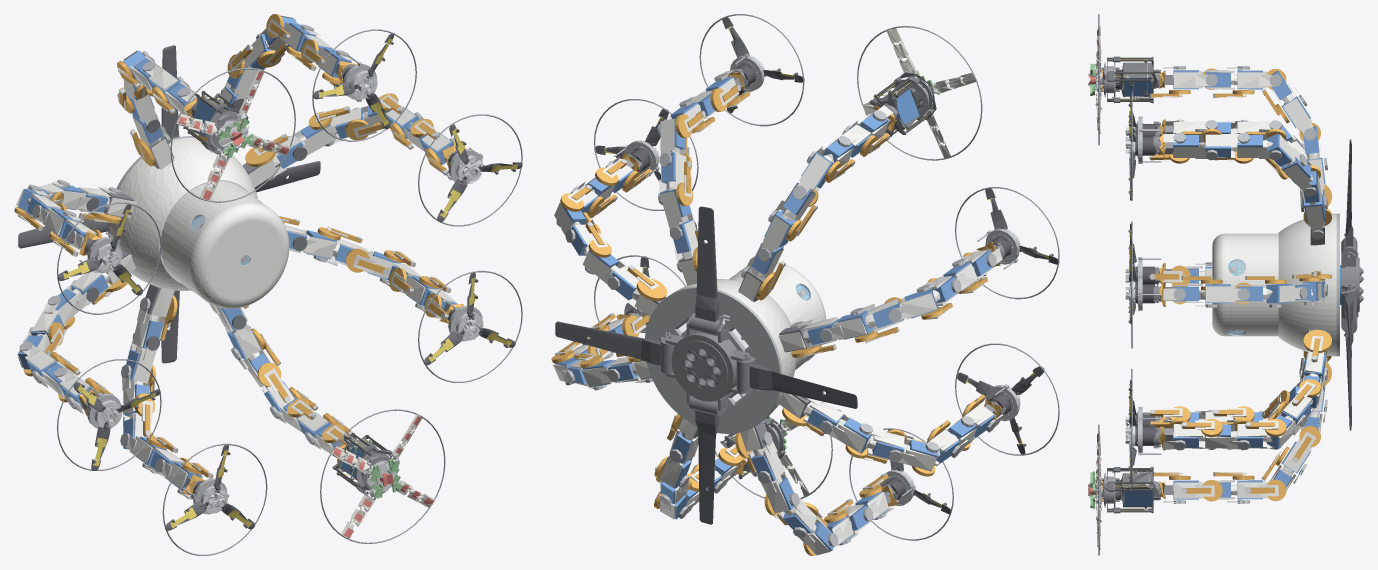
The model's file is cephalo2_flight.glb.
3 views of the same model, side by side, from view 1: azimuth 30°, elevation 25°; view 2: azimuth 150°, elevation 25°; view 3: azimuth 270°, elevation 25° (orthographic). The views are drawn at different scales.
Visible parts, largest first — view 1: arms and hands|c0, turret shell|shell, arms and hands|c7, arms and hands|c3, arms and hands|c14, arms and hands|c4, arms and hands|c6, arms and hands|c12, arms and hands|c11, belly rotor|blades, arms and hands|c27, arms and hands|c13 (+10 smaller); view 2: arms and hands|c0, arms and hands|c7, belly rotor|blades, arms and hands|c6, body|plate, arms and hands|c3, belly rotor|hub, turret shell|shell, arms and hands|c14, arms and hands|c4, arms and hands|c12, arms and hands|c27 (+6 smaller); view 3: arms and hands|c0, turret shell|shell, arms and hands|c7, arms and hands|c3, arms and hands|c6, arms and hands|c4, arms and hands|c18, arms and hands|c10, belly rotor|blades, arms and hands|c14, arms and hands|c12, arms and hands|c16 (+13 smaller).
Part boxes in pixels (x1,y1,x2,y2): arms and hands|c0: (16, 15, 456, 499); turret shell|shell: (109, 137, 289, 308); arms and hands|c7: (18, 16, 457, 490); arms and hands|c3: (14, 14, 441, 474); arms and hands|c14: (57, 29, 522, 555); arms and hands|c4: (23, 22, 451, 478); arms and hands|c6: (19, 23, 483, 514); arms and hands|c12: (58, 33, 522, 530); arms and hands|c11: (95, 70, 483, 513); belly rotor|blades: (18, 45, 320, 363); arms and hands|c27: (176, 69, 435, 539); arms and hands|c13: (63, 38, 518, 528); arms and hands|c0: (553, 70, 1003, 555); arms and hands|c7: (555, 76, 994, 550); belly rotor|blades: (555, 206, 857, 524); arms and hands|c6: (556, 54, 1019, 546); body|plate: (645, 286, 781, 433); arms and hands|c3: (551, 88, 979, 555); belly rotor|hub: (665, 317, 749, 412); turret shell|shell: (672, 262, 826, 419); arms and hands|c14: (594, 14, 1059, 540); arms and hands|c4: (559, 85, 988, 526); arms and hands|c12: (595, 17, 1059, 514); arms and hands|c27: (780, 28, 977, 496); arms and hands|c0: (1163, 67, 1327, 503); turret shell|shell: (1212, 213, 1336, 356); arms and hands|c7: (1173, 70, 1325, 499); arms and hands|c3: (1169, 68, 1331, 501); arms and hands|c6: (1137, 66, 1327, 503); arms and hands|c4: (1150, 90, 1320, 493); arms and hands|c18: (1101, 56, 1153, 513); arms and hands|c10: (1135, 123, 1155, 446); belly rotor|blades: (1345, 139, 1353, 430); arms and hands|c14: (1098, 14, 1132, 555); arms and hands|c12: (1128, 96, 1136, 482); arms and hands|c16: (1107, 57, 1152, 512).
Bounding box in the file's own units: 0.8581 × 0.8962 × 0.4821.
